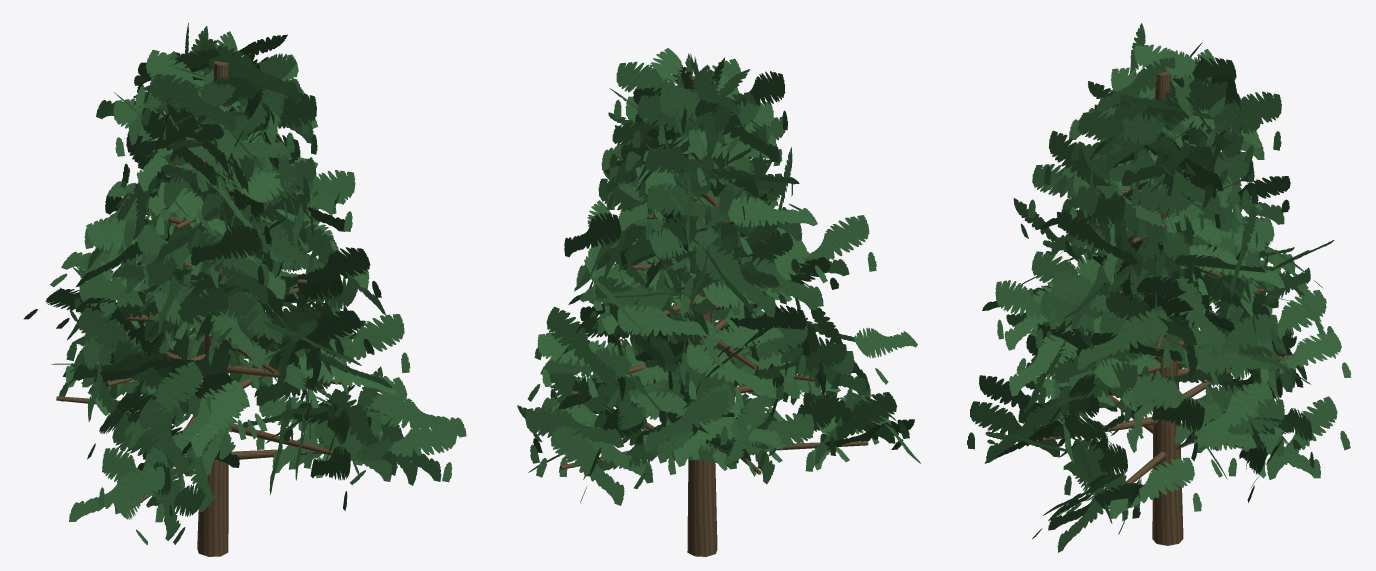
3 renders of one model, left to right at view 1: azimuth 30°, elevation 25°; view 2: azimuth 150°, elevation 25°; view 3: azimuth 270°, elevation 25°, orthographic. The views are drawn at different scales.
Visible parts, largest first — view 1: pine-needle, pine-bark; view 2: pine-needle, pine-bark; view 3: pine-needle, pine-bark.
Boxes of the visible parts, x1,y1,x2,y2 form: pine-needle: (23,23,466,545); pine-bark: (56,60,347,556); pine-needle: (517,48,920,505); pine-bark: (558,76,868,556); pine-needle: (967,23,1351,552); pine-bark: (1036,71,1291,545).
Bounding box in the file's own units: 8.61 × 10.63 × 7.8.
Materials: 2 (2 with a texture image).
